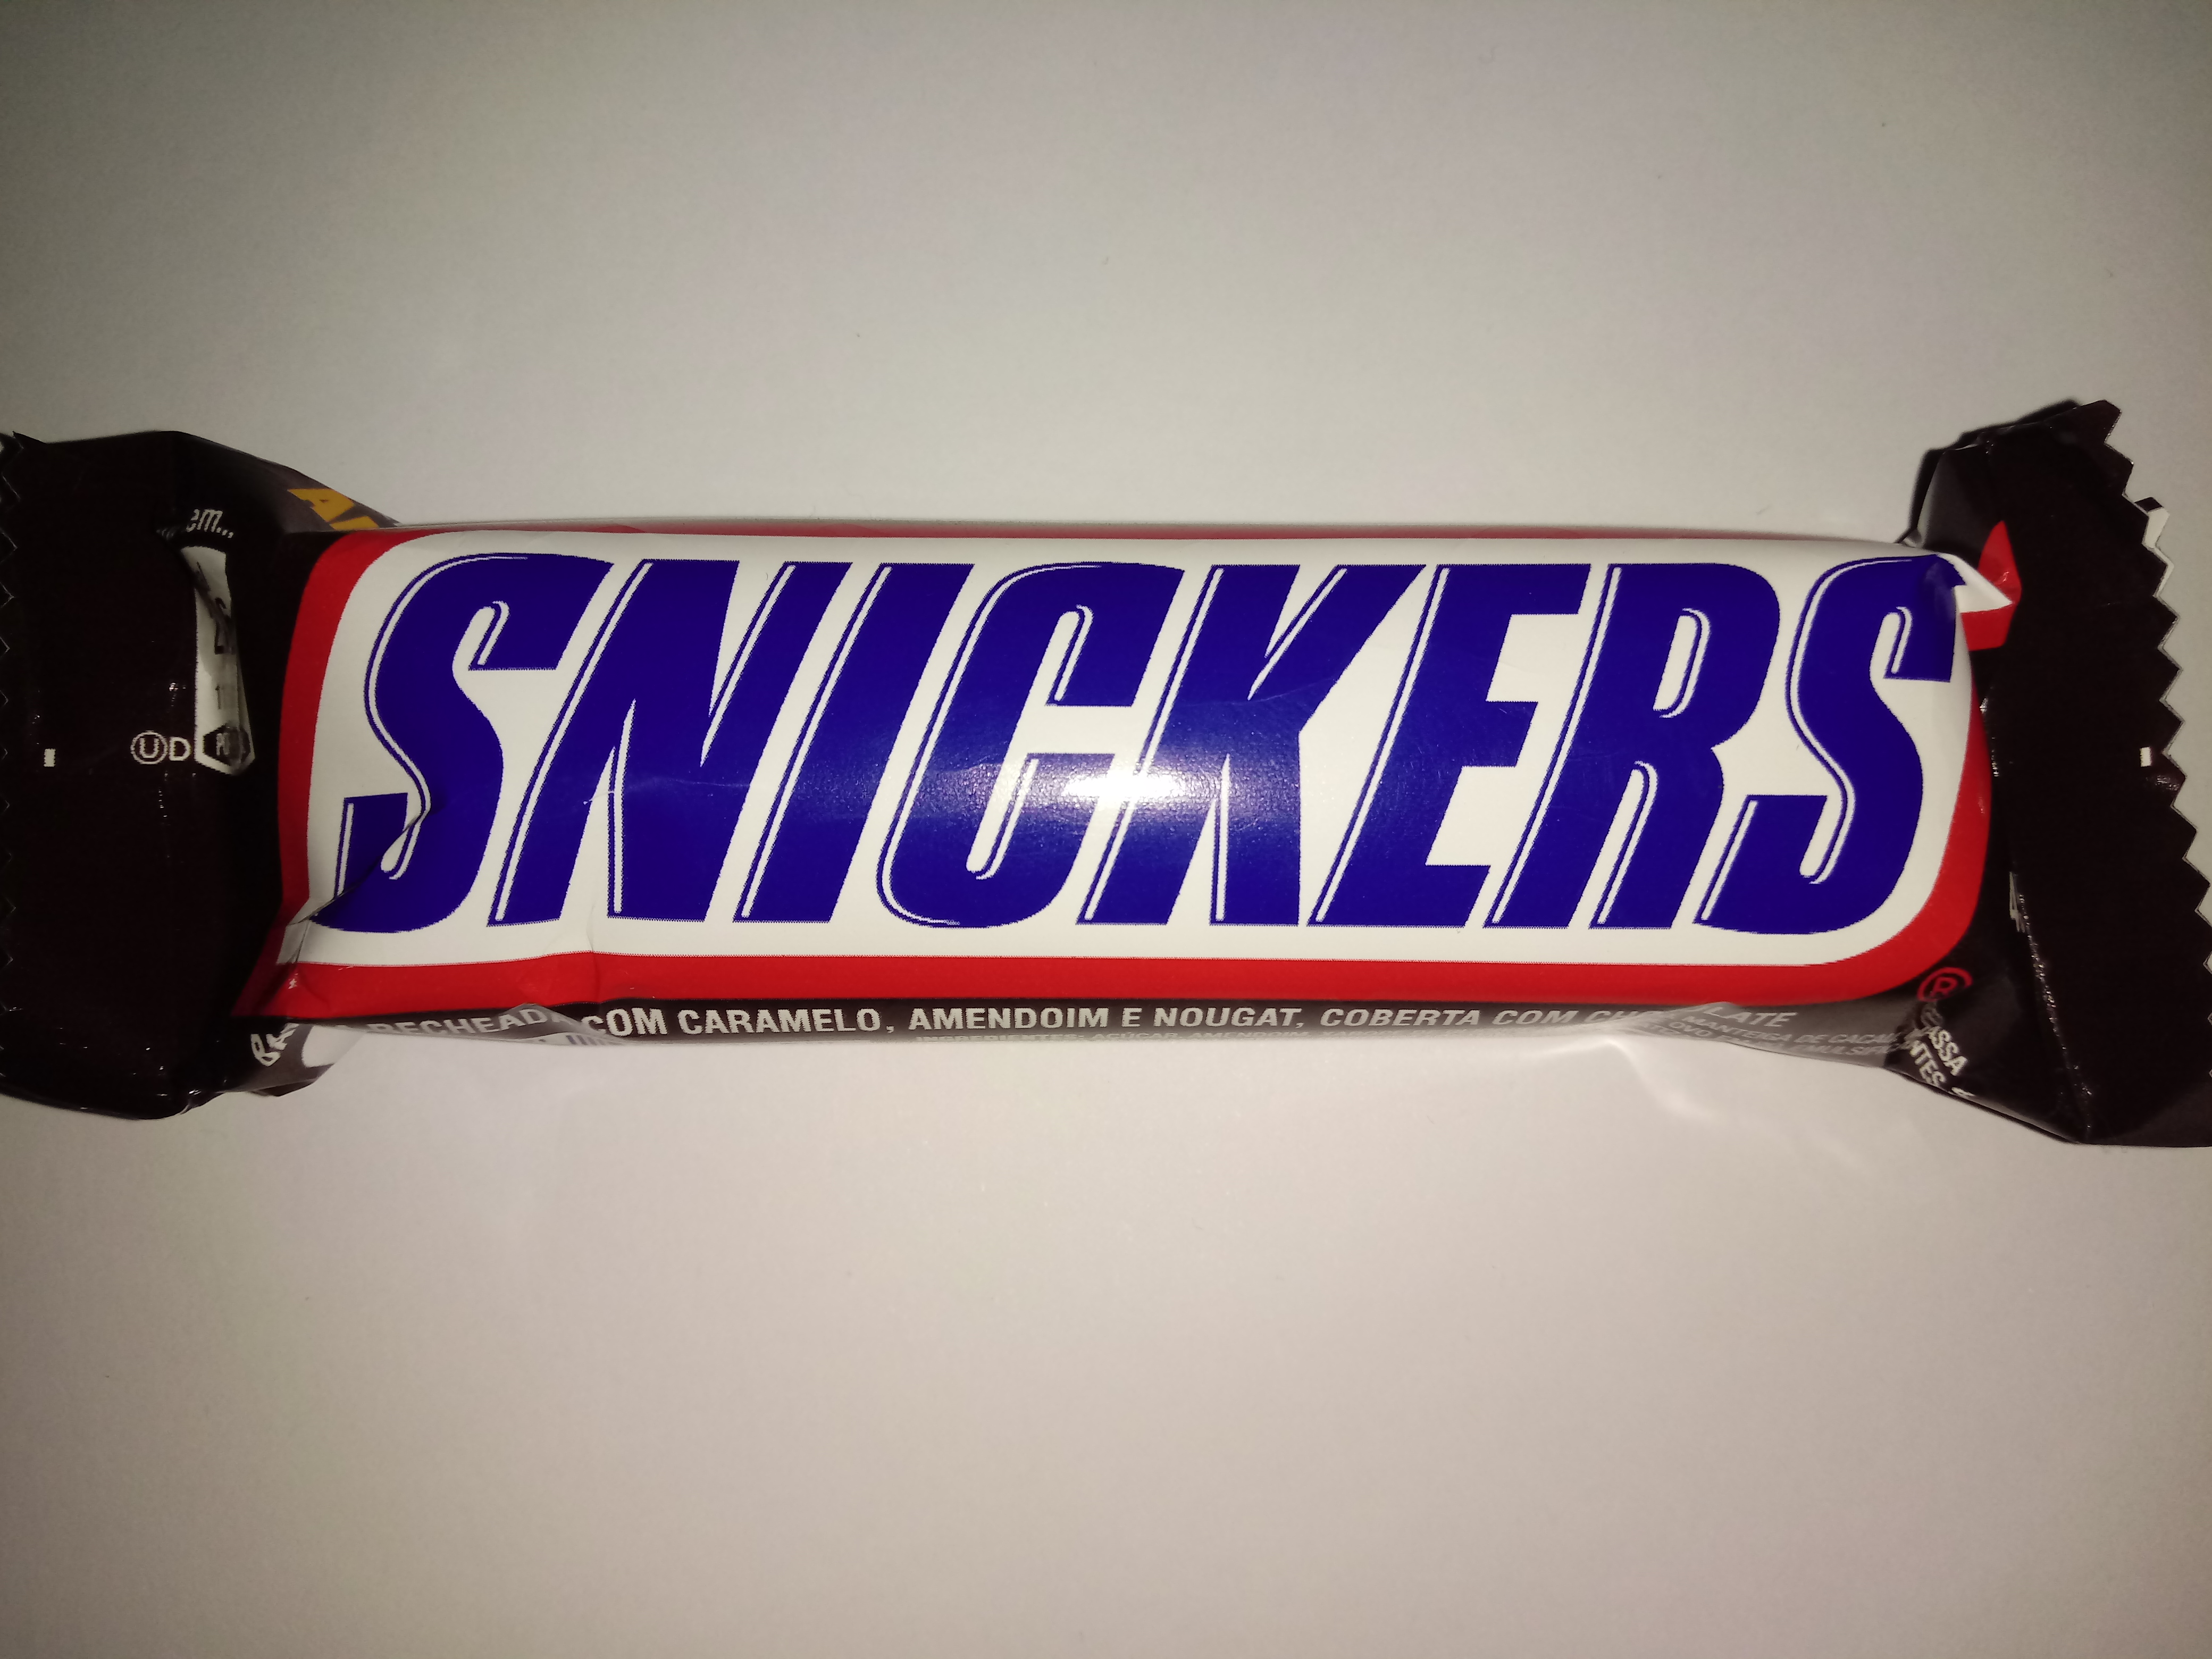snickers: (3, 399, 2212, 1161)
